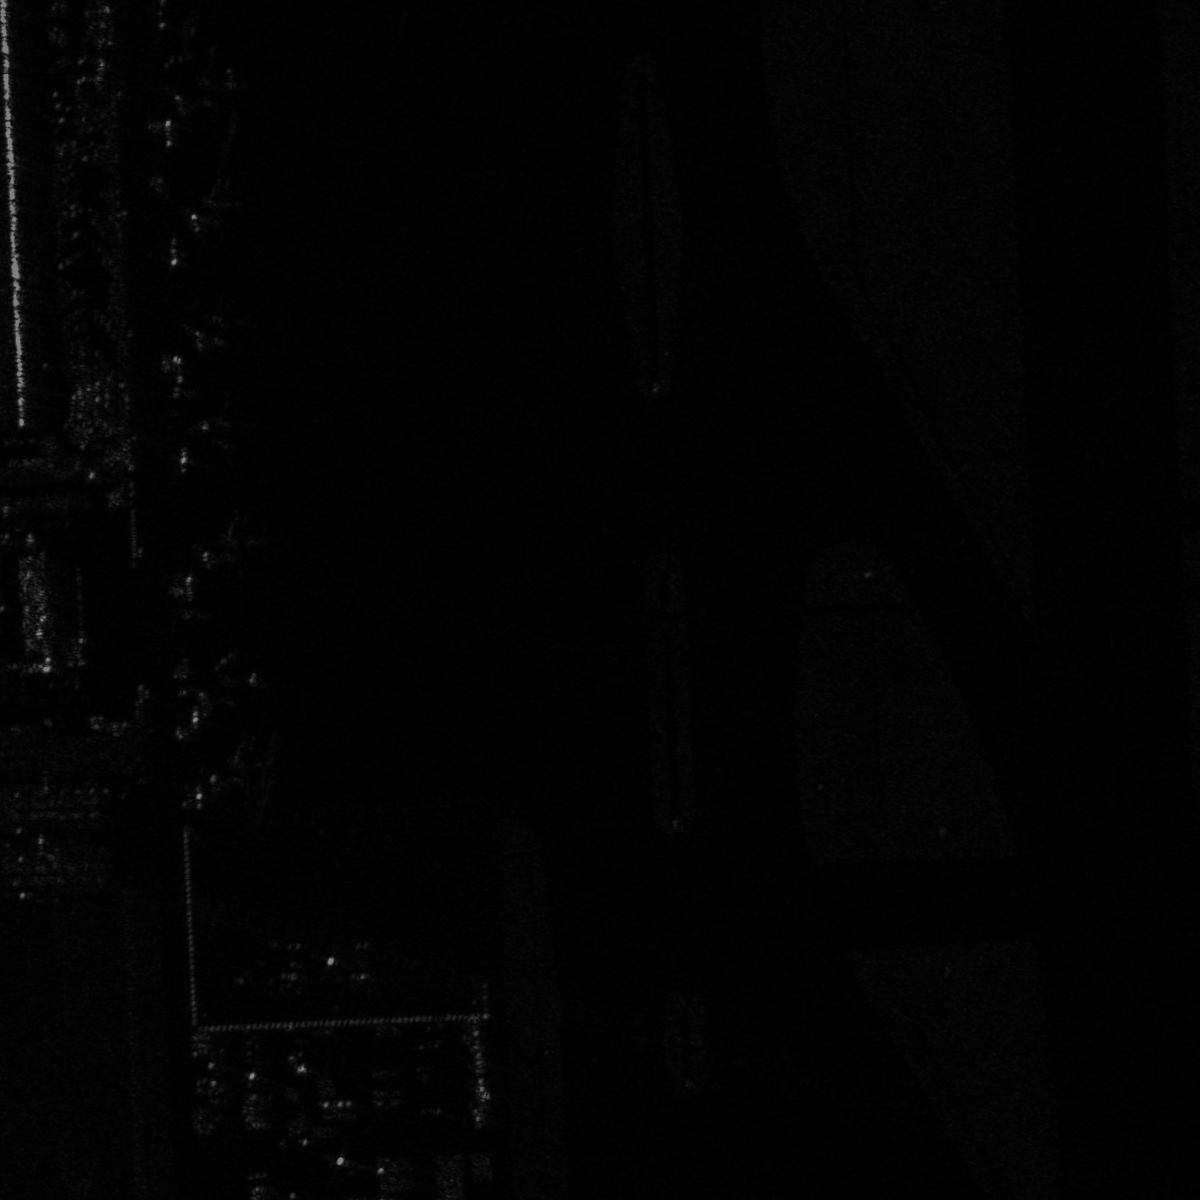A220: (179, 642, 278, 718), (173, 46, 253, 118)
A320/321: (184, 511, 270, 574)
ARJ21: (268, 932, 318, 995)
other: (175, 171, 255, 244), (203, 733, 285, 800), (184, 398, 262, 458), (173, 303, 241, 362), (334, 933, 395, 995)
